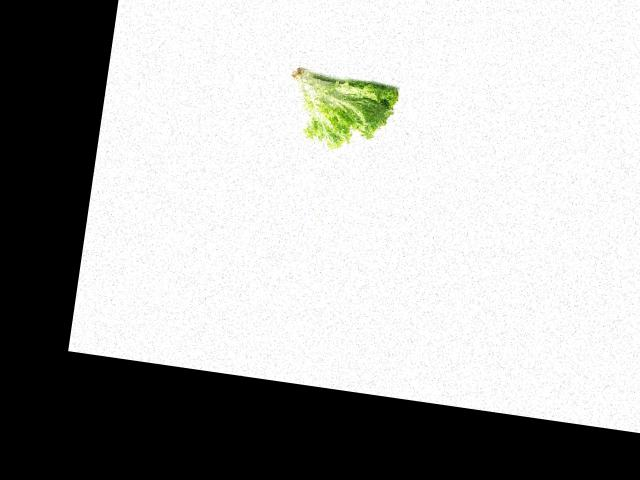lettuce: (279, 64, 400, 157)
